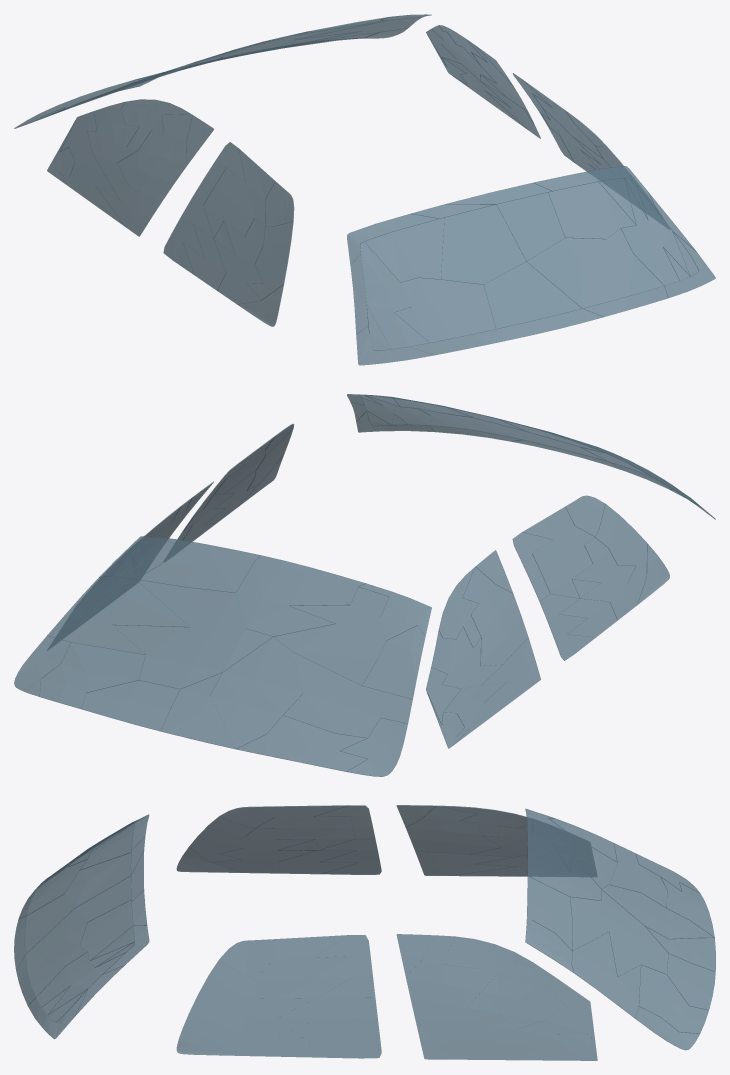
The model's file is taxi_glass_debris.glb.
The picture shows the model from 3 angles, top to bottom: view 1: azimuth 30°, elevation 25°; view 2: azimuth 150°, elevation 25°; view 3: azimuth 270°, elevation 25°; orthographic projection. The views are drawn at different scales.
Parts seen in each view (by area): view 1: Shard_Glass_Rear_06, Shard_Glass_Rear_08, Shard_Glass_Rear_07, Shard_Glass_Rear_03, Shard_Glass_Rear_04, Shard_Glass_Rear_10, Shard_Glass_FL_05, Shard_Glass_Rear_02, Shard_Glass_Rear_11, Shard_Glass_RL_05, Shard_Glass_Rear_09, Shard_Glass_RL_00 (+26 smaller); view 2: Shard_Glass_Windshield_08, Shard_Glass_Windshield_06, Shard_Glass_Windshield_00, Shard_Glass_Windshield_11, Shard_Glass_Windshield_07, Shard_Glass_Windshield_09, Shard_Glass_Windshield_12, Shard_Glass_Windshield_02, Shard_Glass_Windshield_10, Shard_Glass_FL_05, Shard_Glass_RL_05, Shard_Glass_Windshield_05 (+31 smaller); view 3: Shard_Glass_RR_05, Shard_Glass_FR_05, Shard_Glass_RR_07, Shard_Glass_Windshield_08, Shard_Glass_FR_07, Shard_Glass_RR_00, Shard_Glass_RR_06, Shard_Glass_Rear_06, Shard_Glass_FR_04, Shard_Glass_Windshield_07, Shard_Glass_FL_05, Shard_Glass_RL_05 (+46 smaller).
Boxes of the visible parts, <box> form: Shard_Glass_Rear_06: <box>527,228,668,316</box>; Shard_Glass_Rear_08: <box>411,204,526,284</box>; Shard_Glass_Rear_07: <box>394,277,495,355</box>; Shard_Glass_Rear_03: <box>484,261,603,344</box>; Shard_Glass_Rear_04: <box>347,213,444,282</box>; Shard_Glass_Rear_10: <box>534,169,635,238</box>; Shard_Glass_FL_05: <box>117,114,191,201</box>; Shard_Glass_Rear_02: <box>446,182,565,260</box>; Shard_Glass_Rear_11: <box>350,242,417,348</box>; Shard_Glass_RL_05: <box>203,148,275,238</box>; Shard_Glass_Rear_09: <box>621,178,695,285</box>; Shard_Glass_RL_00: <box>213,218,265,304</box>; Shard_Glass_Windshield_08: <box>112,579,273,688</box>; Shard_Glass_Windshield_06: <box>236,555,365,636</box>; Shard_Glass_Windshield_00: <box>210,636,302,748</box>; Shard_Glass_Windshield_11: <box>274,586,388,685</box>; Shard_Glass_Windshield_07: <box>47,575,189,654</box>; Shard_Glass_Windshield_09: <box>283,652,412,737</box>; Shard_Glass_Windshield_12: <box>39,642,145,708</box>; Shard_Glass_Windshield_02: <box>136,537,259,592</box>; Shard_Glass_Windshield_10: <box>236,715,367,771</box>; Shard_Glass_FL_05: <box>462,567,528,665</box>; Shard_Glass_RL_05: <box>522,506,594,598</box>; Shard_Glass_Windshield_05: <box>81,680,179,731</box>; Shard_Glass_RR_05: <box>255,935,352,998</box>; Shard_Glass_FR_05: <box>406,935,500,1037</box>; Shard_Glass_RR_07: <box>278,977,374,1058</box>; Shard_Glass_Windshield_08: <box>570,889,668,976</box>; Shard_Glass_FR_07: <box>467,962,568,1029</box>; Shard_Glass_RR_00: <box>211,998,318,1056</box>; Shard_Glass_RR_06: <box>189,959,255,1038</box>; Shard_Glass_Rear_06: <box>16,908,87,1005</box>; Shard_Glass_FR_04: <box>450,1014,588,1060</box>; Shard_Glass_Windshield_07: <box>572,932,641,1018</box>; Shard_Glass_FL_05: <box>406,806,501,854</box>; Shard_Glass_RL_05: <box>256,805,354,850</box>.
Bounding box in the file's own units: 1.74 × 0.4643 × 2.81.
